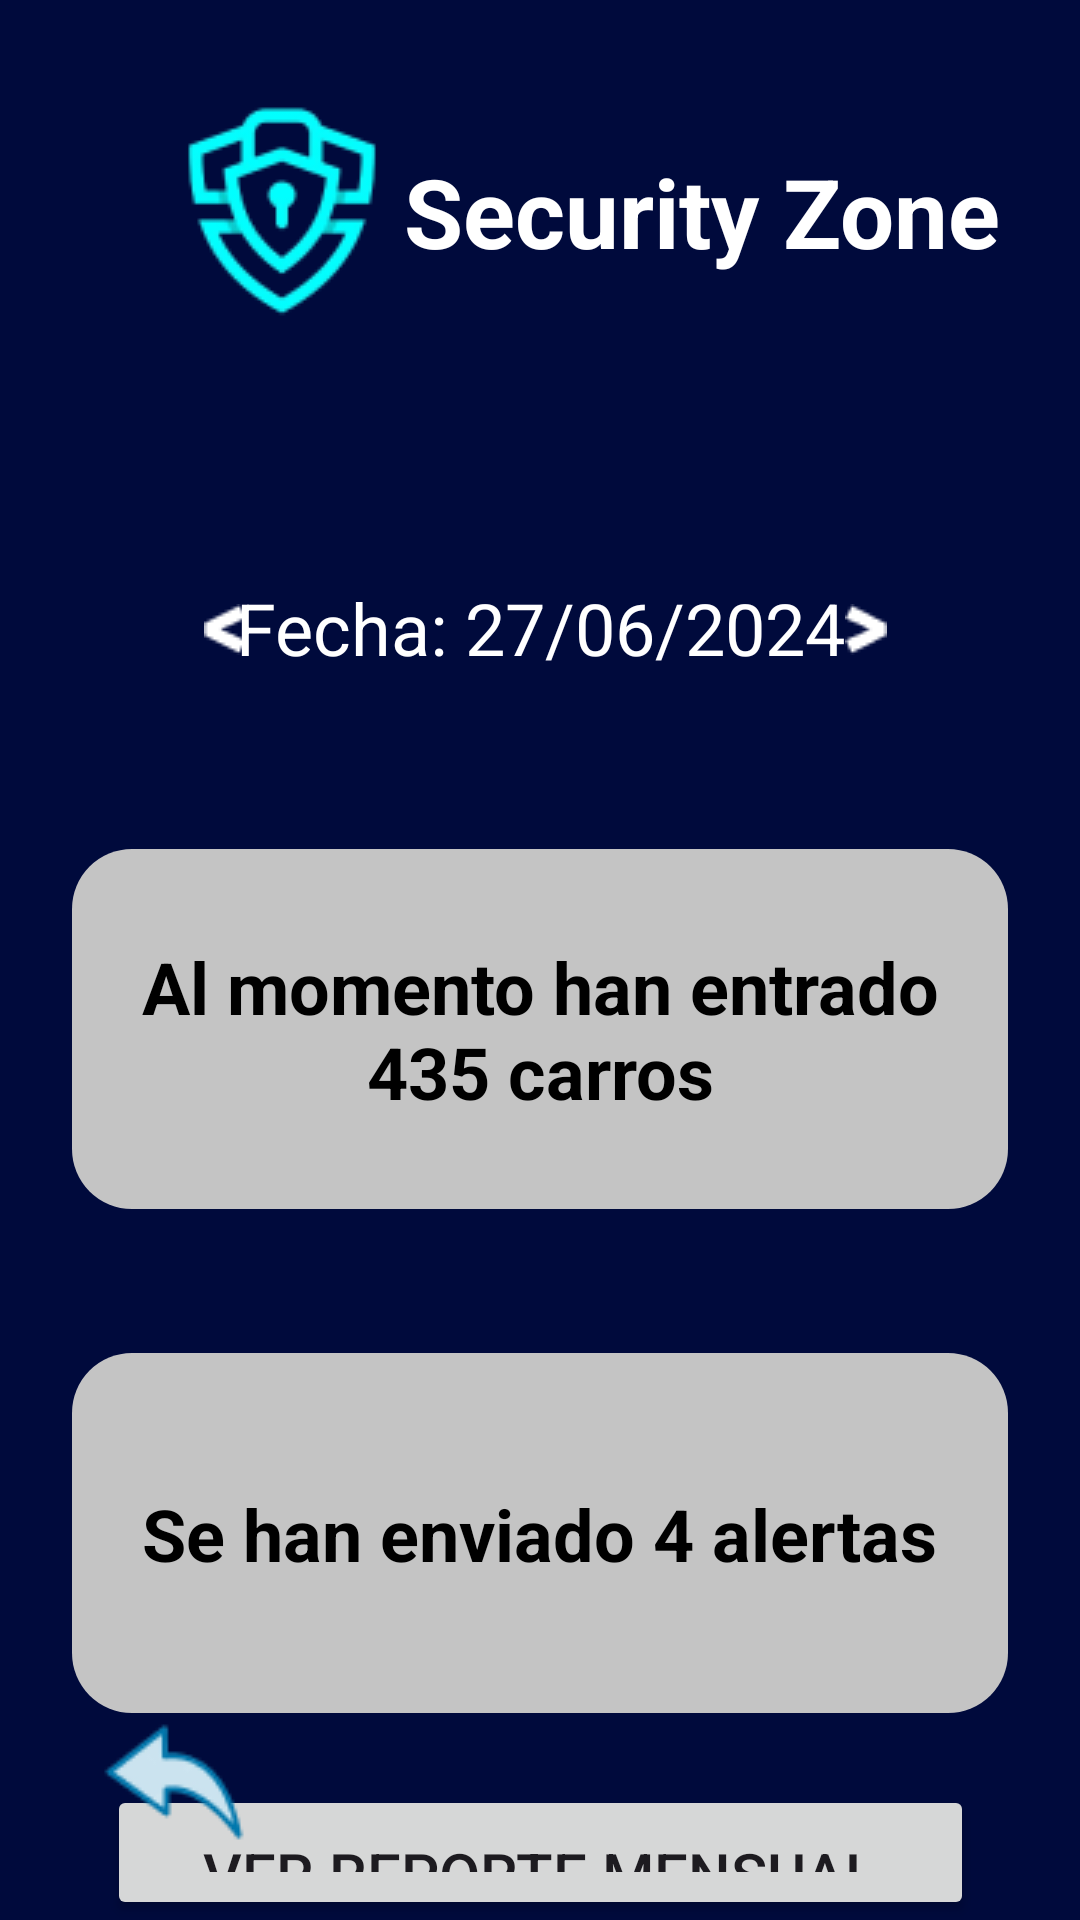

Icon click points for this 1080x1920 phone screenshot, format (x,y):
atras: (174,1782)
mayorque: (866,628)
menorque: (225,629)
